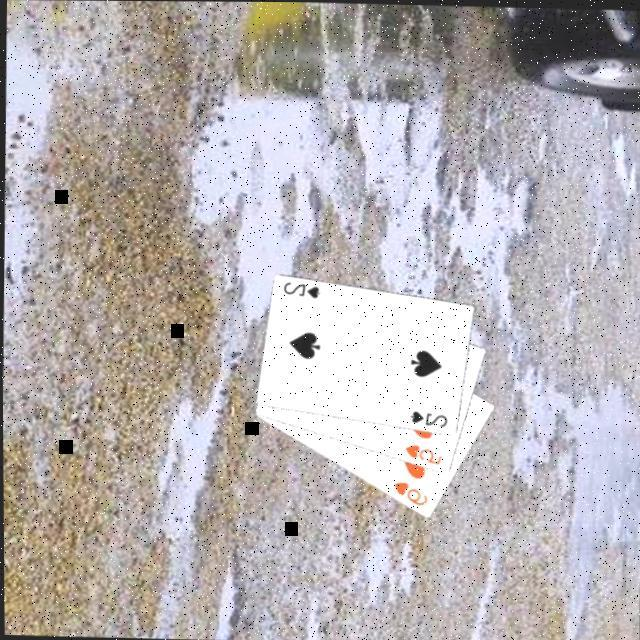2S: (406, 408, 451, 432), (280, 279, 323, 302)
5H: (402, 443, 444, 469)
6H: (390, 479, 431, 510)
